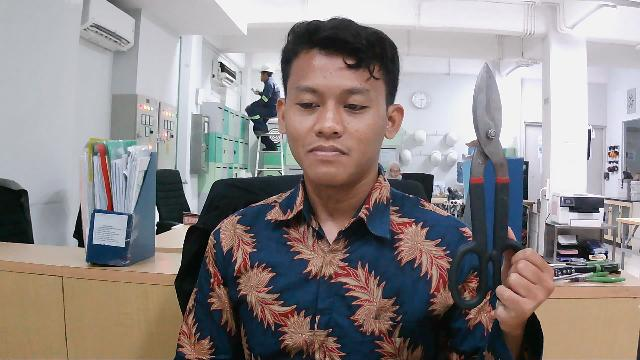gunting_plat: (444, 50, 537, 323)
